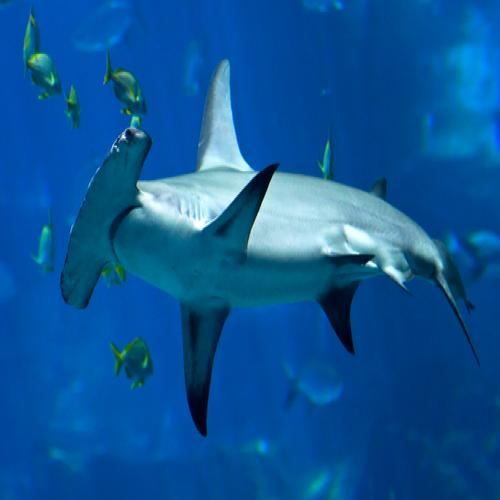shark-endangered: (58, 57, 482, 437)
